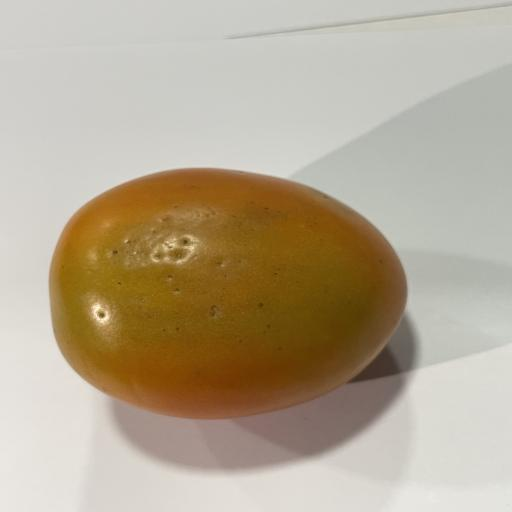unripe: (50, 169, 406, 418)
